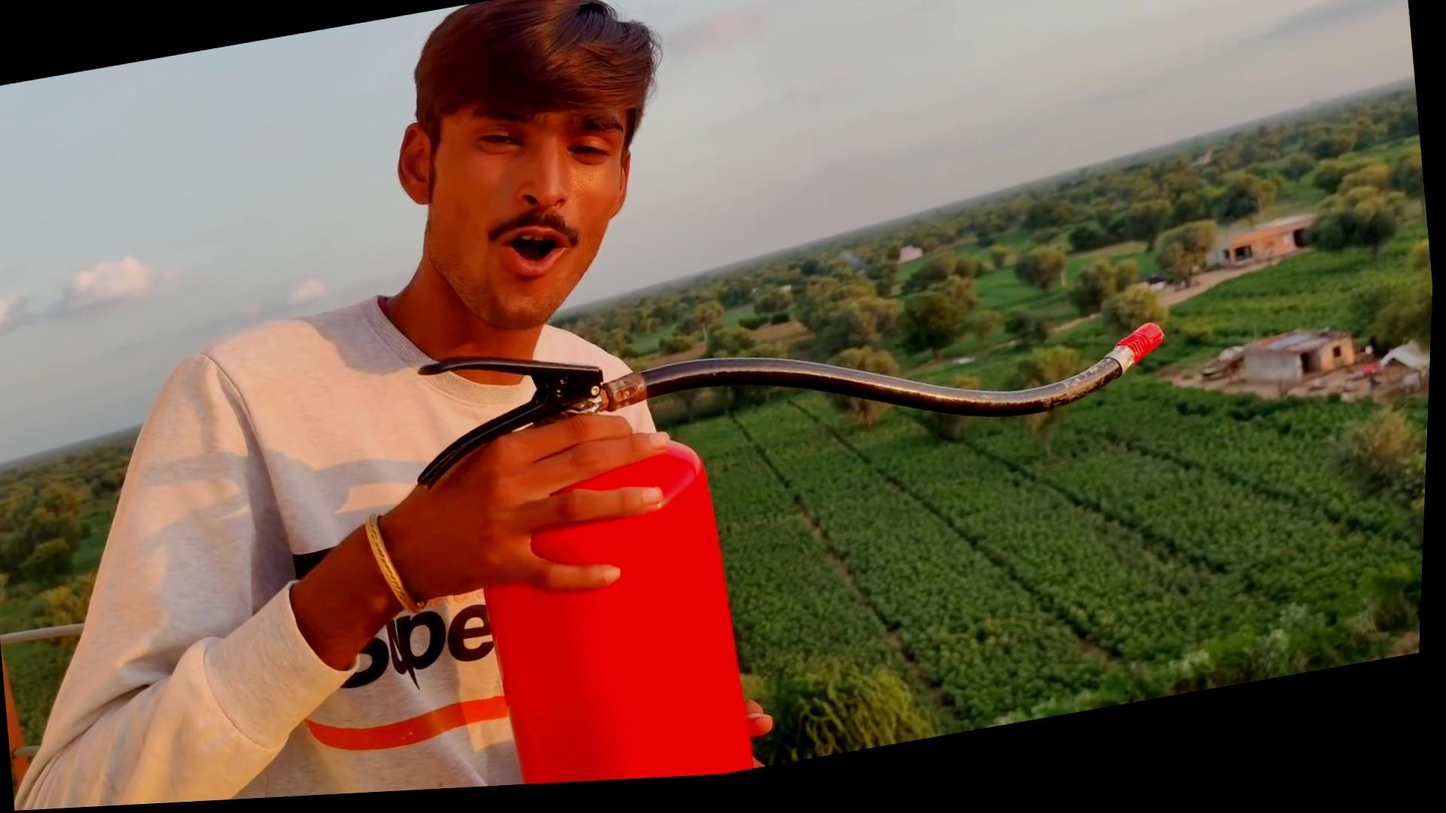FireExtinguisher: (376, 306, 805, 797)
